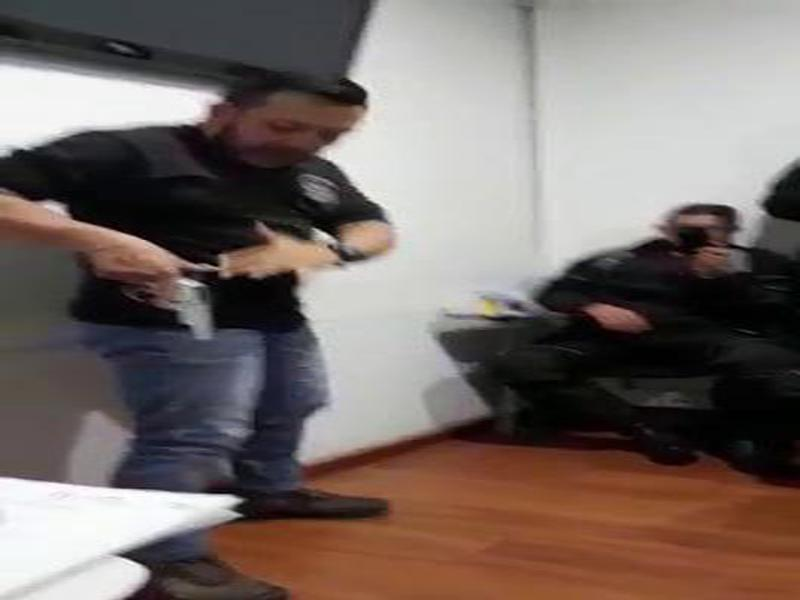Revolver: (125, 249, 225, 359)
